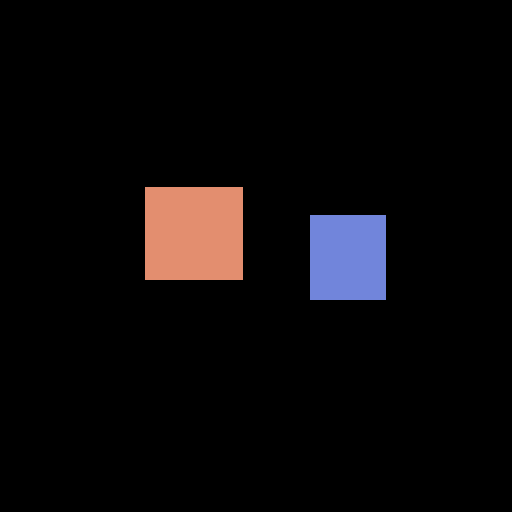rectangle: (310, 215, 385, 299)
square: (145, 187, 242, 279)
